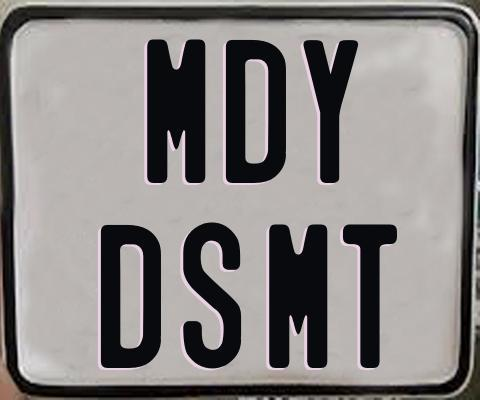D: (224, 40, 290, 185), (101, 225, 164, 371)
M: (145, 36, 209, 182), (266, 221, 327, 370)
S: (182, 222, 240, 368)
T: (343, 224, 399, 368)
Y: (303, 37, 361, 186)
